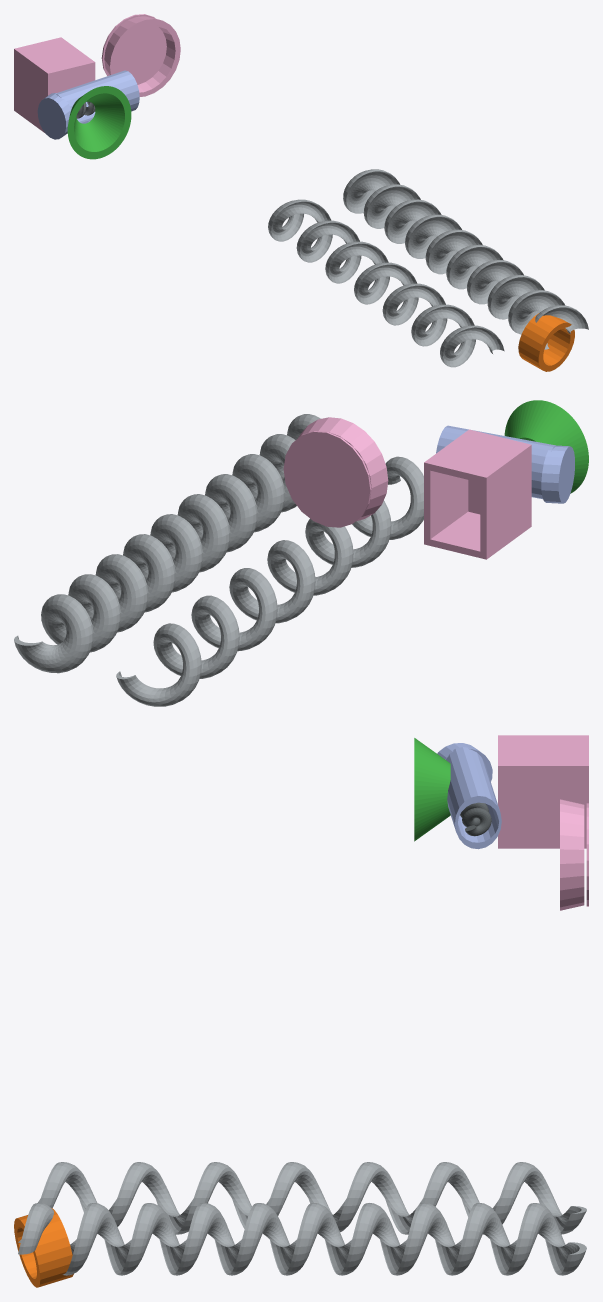
The model's file is tinker.obj.
3 renders of one model, top to bottom at view 1: azimuth 30°, elevation 25°; view 2: azimuth 150°, elevation 25°; view 3: azimuth 270°, elevation 25°, orthographic. The views are drawn at different scales.
Parts seen in each view (by area): view 1: group_0_10988977, group_0_15708628, group_0_4634441, group_0_11452141, group_0_16089887; view 2: group_0_10988977, group_0_15708628, group_0_4634441, group_0_11452141; view 3: group_0_10988977, group_0_15708628, group_0_11452141, group_0_4634441, group_0_16089887, group_0_6383466.
Boxes of the visible parts, bbox=[...] form: group_0_10988977: bbox=[268, 169, 588, 367]; group_0_15708628: bbox=[14, 14, 180, 132]; group_0_4634441: bbox=[67, 86, 131, 159]; group_0_11452141: bbox=[37, 70, 139, 139]; group_0_16089887: bbox=[518, 313, 574, 371]; group_0_10988977: bbox=[14, 414, 423, 706]; group_0_15708628: bbox=[283, 417, 531, 559]; group_0_4634441: bbox=[504, 400, 588, 493]; group_0_11452141: bbox=[436, 425, 574, 503]; group_0_10988977: bbox=[18, 1162, 586, 1275]; group_0_15708628: bbox=[498, 735, 588, 910]; group_0_11452141: bbox=[437, 743, 501, 849]; group_0_4634441: bbox=[414, 738, 450, 841]; group_0_16089887: bbox=[14, 1208, 73, 1287]; group_0_6383466: bbox=[460, 802, 491, 836].
Size of the model in its own units: 159 by 104 by 158.
